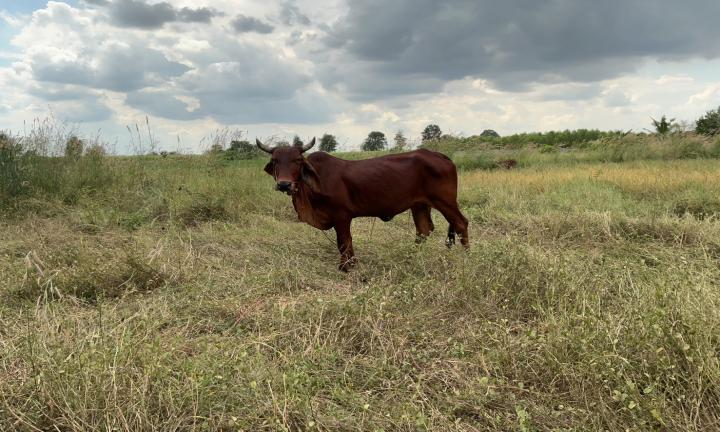Brahman: (256, 139, 468, 271)
